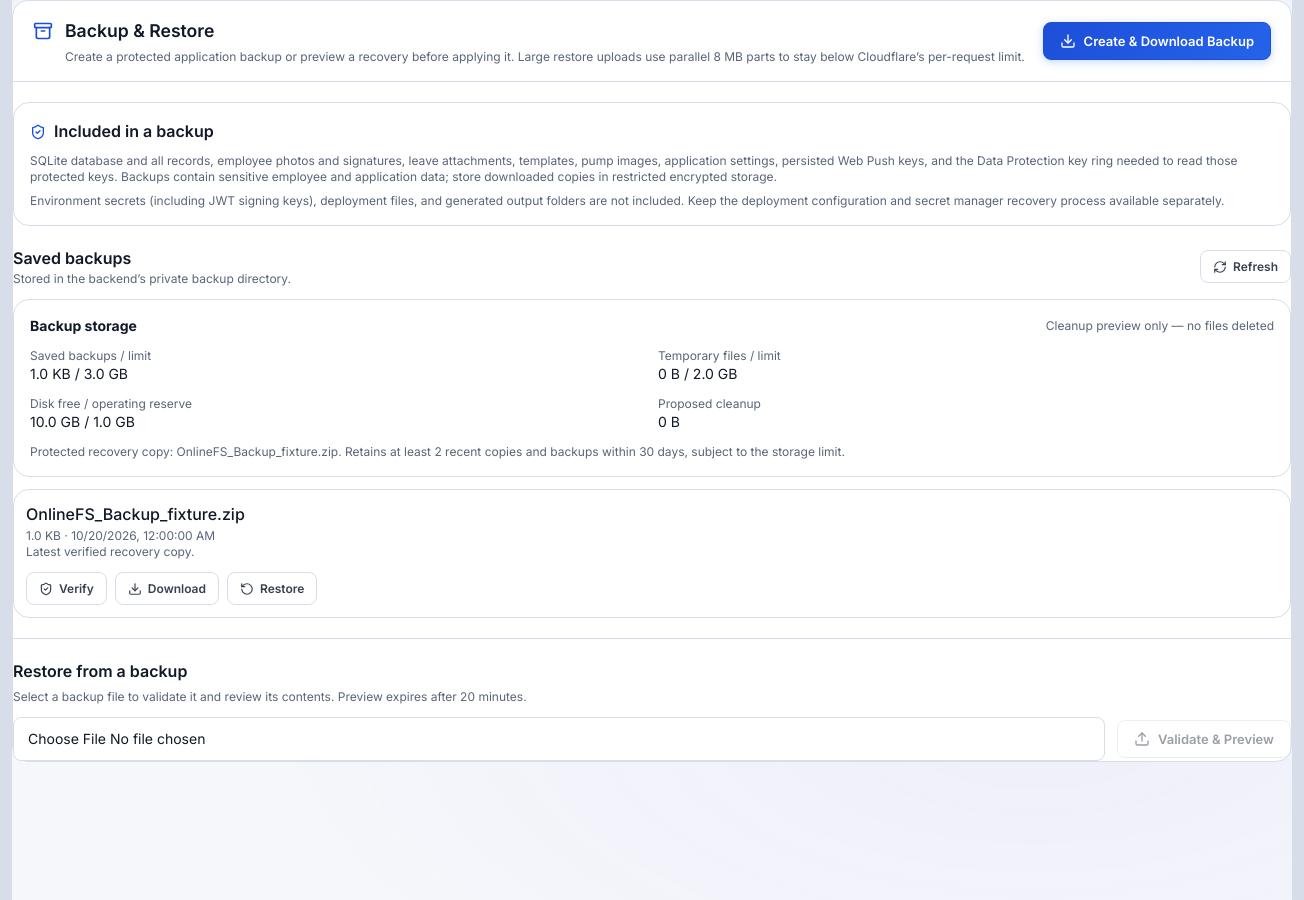
Test case: backup storage visibility › verifies a saved copy without restoring or deleting it
Expected: the element named "Backup storage report" is shown, left=13, top=299, right=1291, bottom=477
Click the button "Verify".
click(66, 588)  # box left=26, top=572, right=107, bottom=605
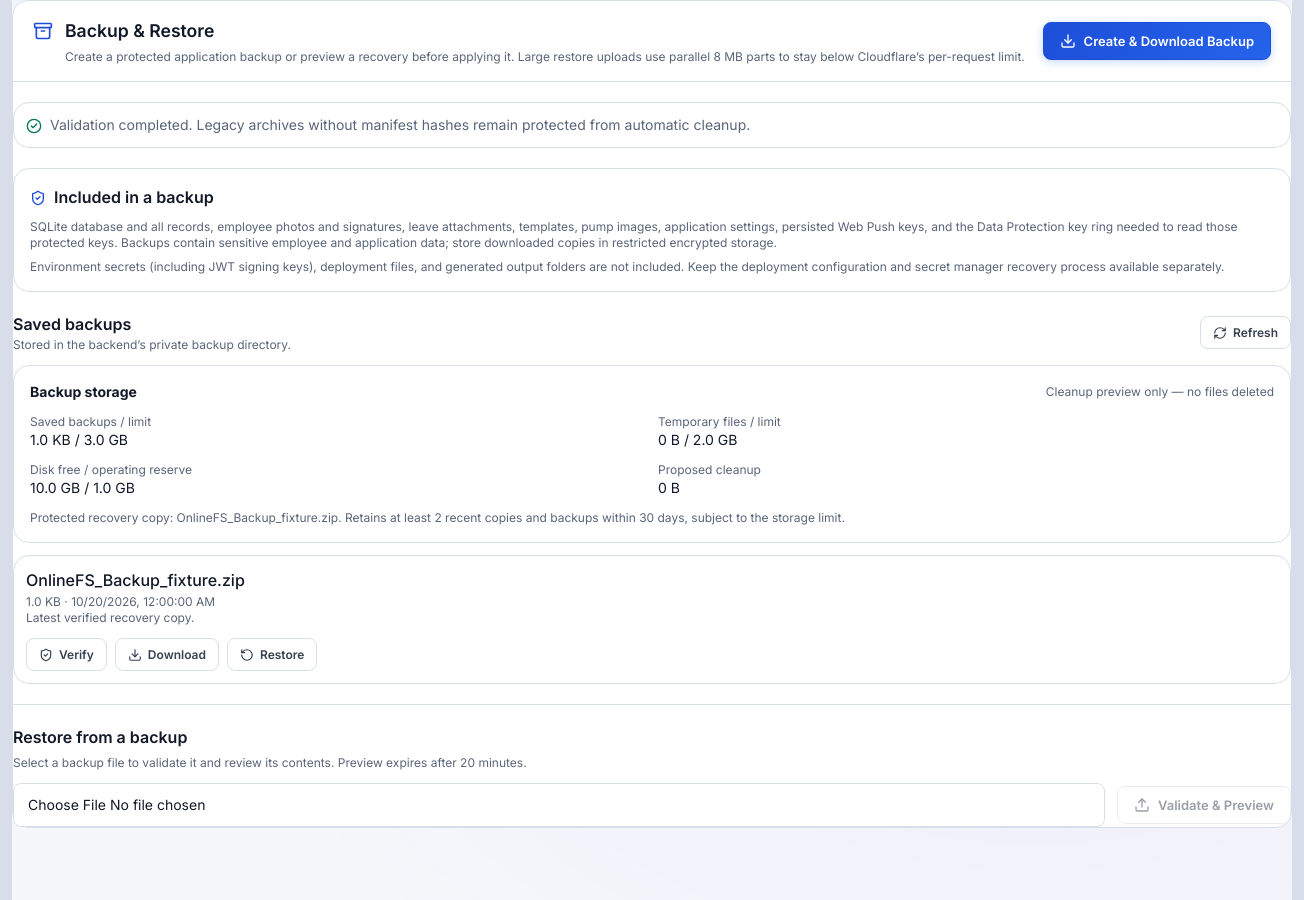
Expected: the text "Validation completed" is shown, left=50, top=116, right=750, bottom=133
